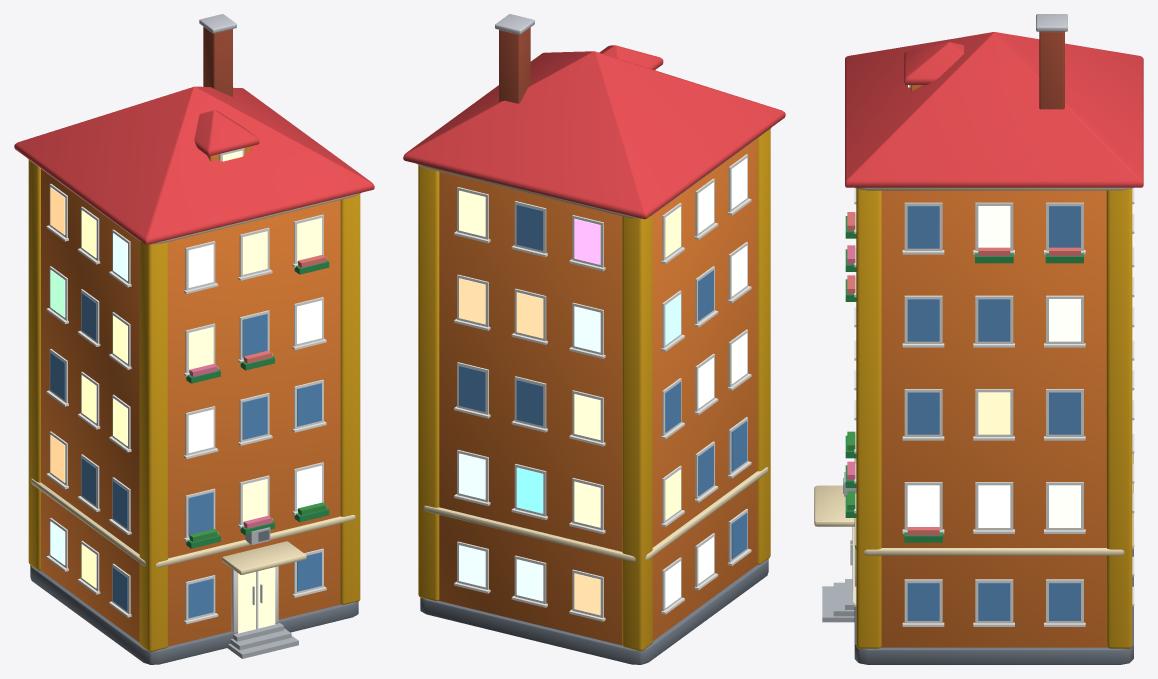
Rendered from apto_laranja_telhado.glb.
3 renders of one model, left to right at view 1: azimuth 30°, elevation 25°; view 2: azimuth 150°, elevation 25°; view 3: azimuth 270°, elevation 25°, orthographic. The views are drawn at different scales.
Visible parts, largest first — view 1: apto_laranja_telhado; view 2: apto_laranja_telhado; view 3: apto_laranja_telhado.
Part boxes in pixels (x1,y1,x2,y2): apto_laranja_telhado: [14, 14, 374, 664]; apto_laranja_telhado: [403, 14, 785, 664]; apto_laranja_telhado: [814, 14, 1143, 664].
Bounding box in the file's own units: 9.3 × 21.09 × 10.25.
8 materials, 1 textured.
